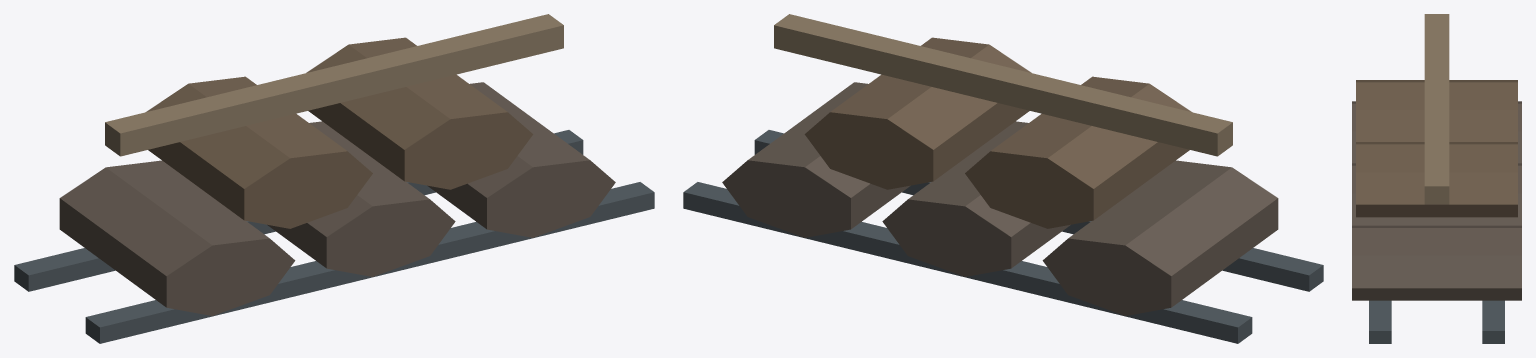
Rendered from pit_props.glb.
3 renders of one model, left to right at view 1: azimuth 30°, elevation 25°; view 2: azimuth 150°, elevation 25°; view 3: azimuth 270°, elevation 25°, orthographic. The views are drawn at different scales.
Parts seen in each view (by area): view 1: pit_props; view 2: pit_props; view 3: pit_props.
Part boxes in pixels (x1,y1,x2,y2): pit_props: (14, 14, 654, 343); pit_props: (683, 14, 1323, 343); pit_props: (1352, 14, 1521, 343).
Bounding box in the file's own units: 2.88 × 0.85 × 0.96.
